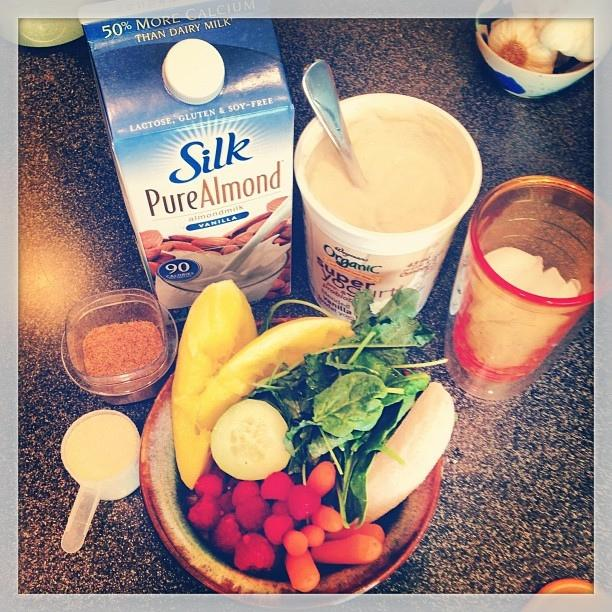banana: (365, 382, 455, 524)
carrot: (311, 533, 382, 564), (284, 550, 321, 592), (306, 461, 336, 498), (324, 524, 384, 542), (312, 504, 344, 532), (283, 530, 308, 556), (300, 525, 325, 547)
cucumber: (210, 400, 290, 480)
garlic: (486, 18, 558, 74), (534, 18, 594, 62)
raspberry: (234, 532, 276, 572), (236, 496, 272, 532), (214, 512, 243, 554), (187, 494, 220, 530), (288, 485, 320, 521), (260, 471, 294, 500), (264, 514, 294, 546), (232, 481, 260, 507), (194, 473, 224, 496), (217, 492, 236, 516), (272, 501, 290, 516)
